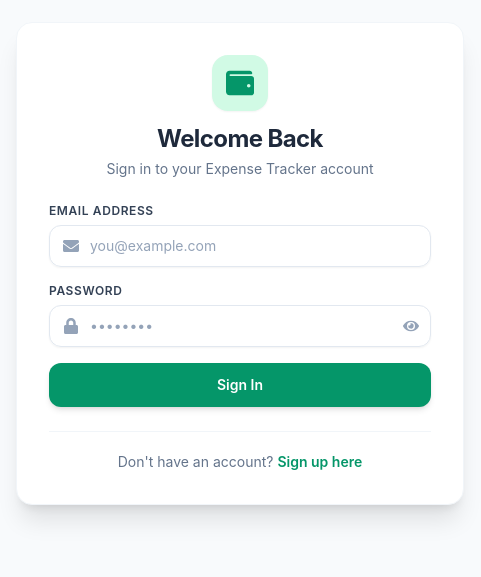
Test: LoginForm / LoginPage Component › displays error alert when authentication fails with invalid credentials
Note: Enter credentials
Type "wrong@example.com" into the field labelled "Email Address" at coordinates (240, 246), box [49, 224, 431, 266]
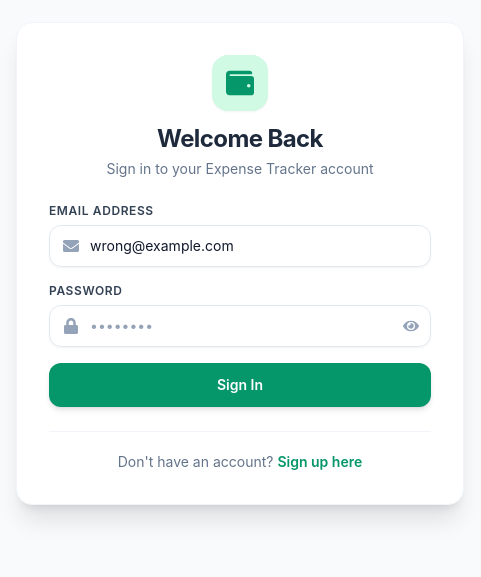
Type "wrongpass" into the password field labelled "Password" at coordinates (240, 326), box [49, 304, 431, 346]
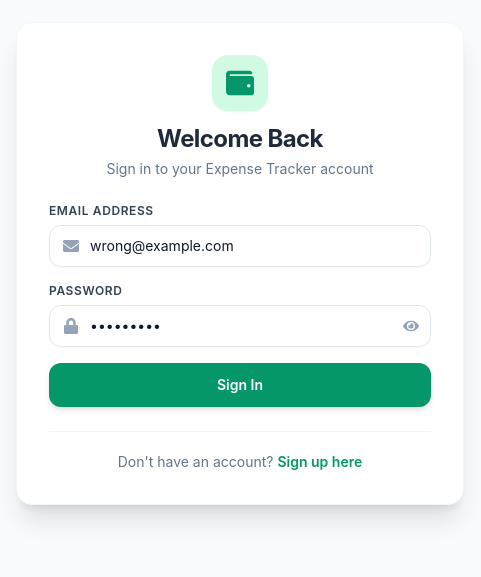
Note: Submit form
Click the button "Sign In" at coordinates (240, 384), box [49, 362, 431, 406]
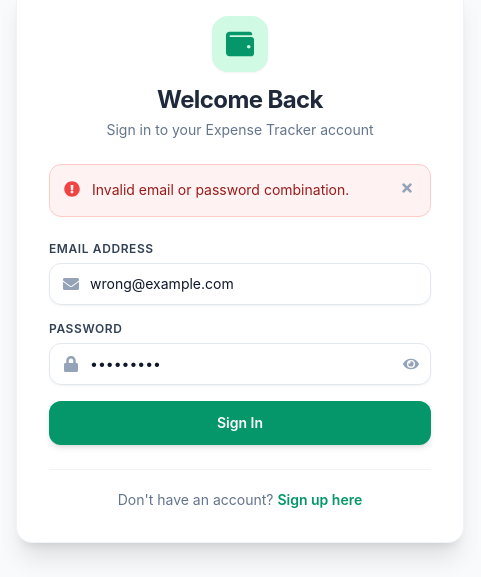
Expected: the message "Invalid email or password combination." is shown, [49, 164, 431, 217]
Expected: the text "Invalid email or password combination." is shown, [92, 179, 382, 202]
